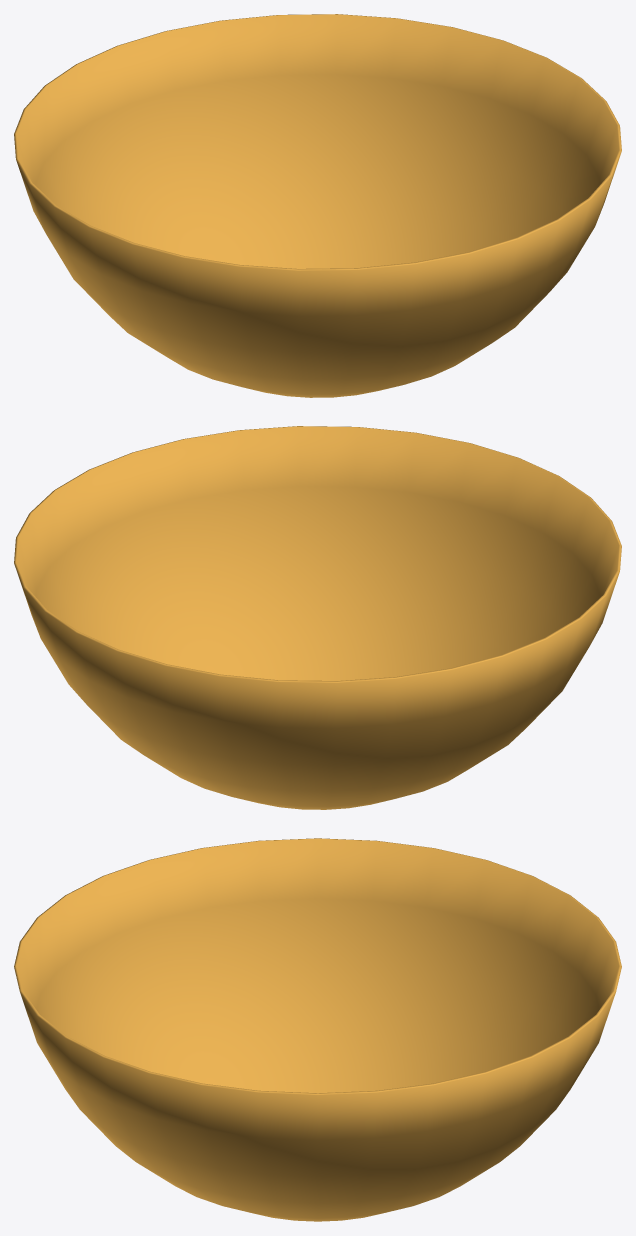
File: bowl 1.fbx
The picture shows the model from 3 angles, top to bottom: view 1: azimuth 30°, elevation 25°; view 2: azimuth 150°, elevation 25°; view 3: azimuth 270°, elevation 25°; orthographic projection.
Visible parts, largest first — view 1: Sphere; view 2: Sphere; view 3: Sphere.
Boxes of the visible parts, bbox=[...] form: Sphere: bbox=[14, 14, 621, 397]; Sphere: bbox=[14, 426, 621, 809]; Sphere: bbox=[14, 838, 621, 1221].
Size of the model in its own units: 196 by 80.8 by 196.
